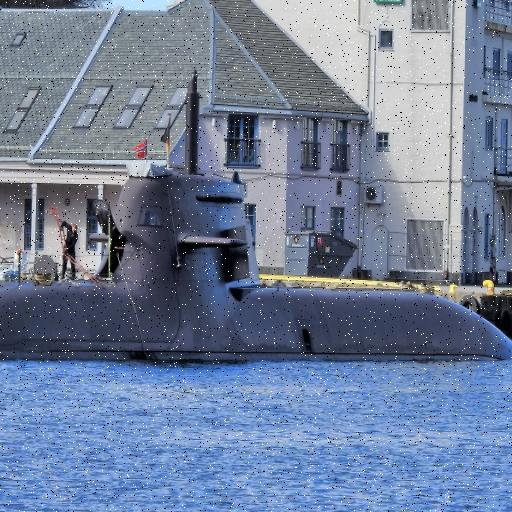submarine: (1, 65, 512, 358)
